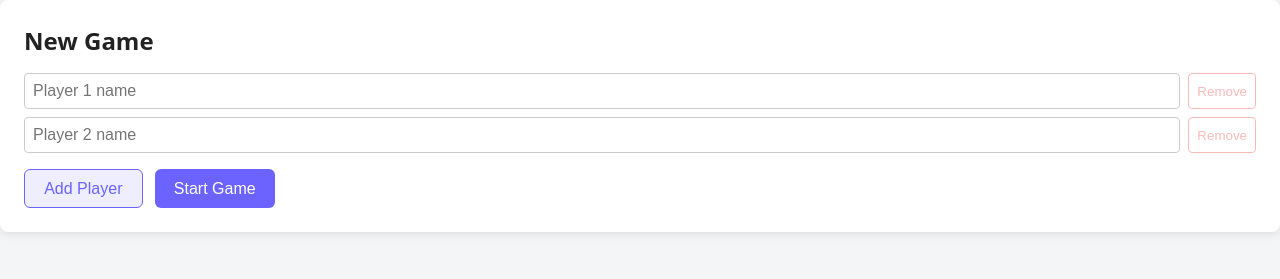
Scenario: NewGameForm › shows inline error when names are duplicated on submit
This screenshot has width=1280, height=279.
Type "Alice" into the field with placeholder "Player 1 name" at (602,91), box [24, 73, 1180, 109]
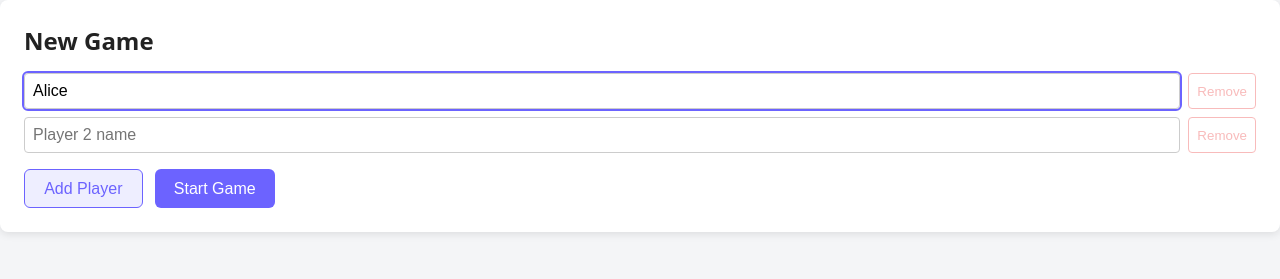
Type "alice" into the field with placeholder "Player 2 name" at (602,135), box [24, 117, 1180, 153]
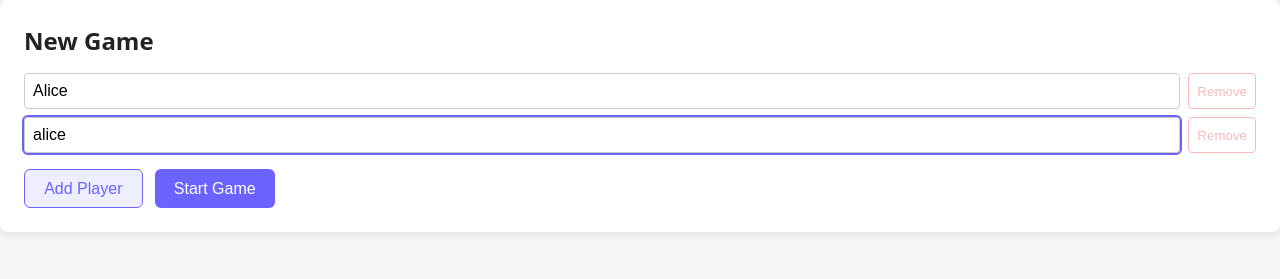
Click the button "Start Game" at (215,189), box [155, 169, 275, 208]
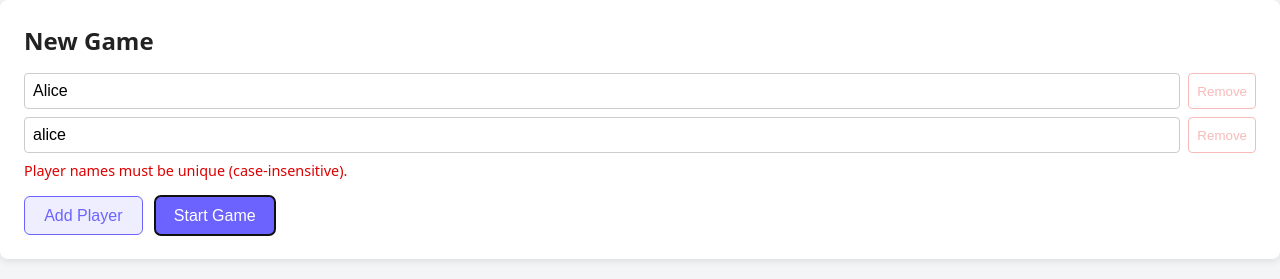
Now the message shows "unique", box [24, 161, 347, 180]
